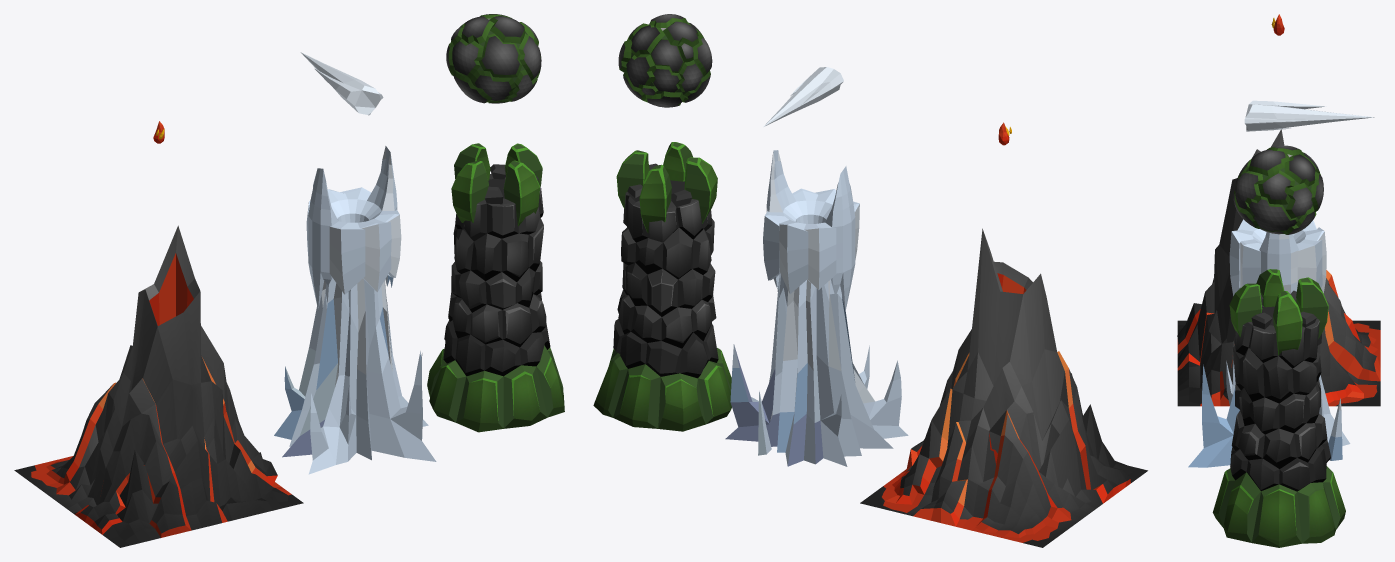
File: Towers.fbx
3 views of the same model, side by side, from view 1: azimuth 30°, elevation 25°; view 2: azimuth 150°, elevation 25°; view 3: azimuth 270°, elevation 25° (orthographic). The views are drawn at different scales.
Visible parts, largest first — view 1: Grid, Cylinder, Tower, Tower Head, StoneProjectile, Ice Projectile; view 2: Grid, Cylinder, Tower, Tower Head, StoneProjectile, Ice Projectile; view 3: Cylinder, Grid, StoneProjectile, Tower Head, Tower, Ice Projectile.
Boxes of the visible parts, x1,y1,x2,y2 form: Grid: (14,225,303,547); Cylinder: (427,143,564,432); Tower: (274,278,436,474); Tower Head: (306,146,401,310); StoneProjectile: (446,14,541,103); Ice Projectile: (300,52,383,115); Grid: (860,228,1147,547); Cylinder: (593,142,731,431); Tower: (725,270,908,466); Tower Head: (763,150,859,311); StoneProjectile: (618,14,712,107); Ice Projectile: (763,67,843,126); Cylinder: (1212,269,1345,547); Grid: (1177,129,1380,406); StoneProjectile: (1233,145,1323,234); Tower Head: (1229,219,1326,295); Tower: (1188,361,1350,467); Ice Projectile: (1244,100,1374,131).
Size of the model in its own units: 537 by 402 by 200.
